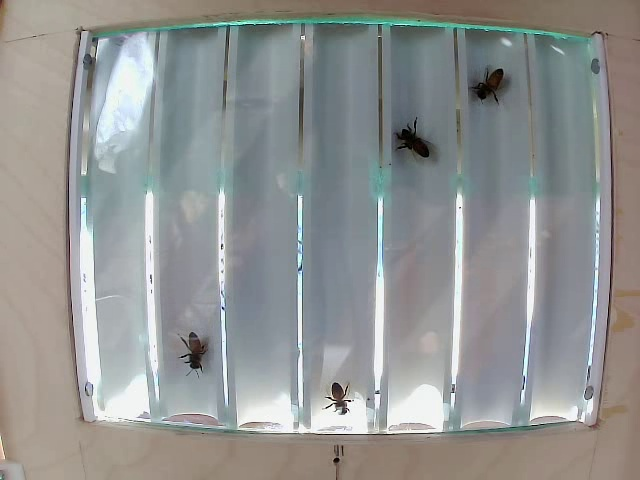bee: (387, 112, 440, 168), (466, 73, 524, 111), (315, 374, 361, 413), (178, 326, 217, 371)
